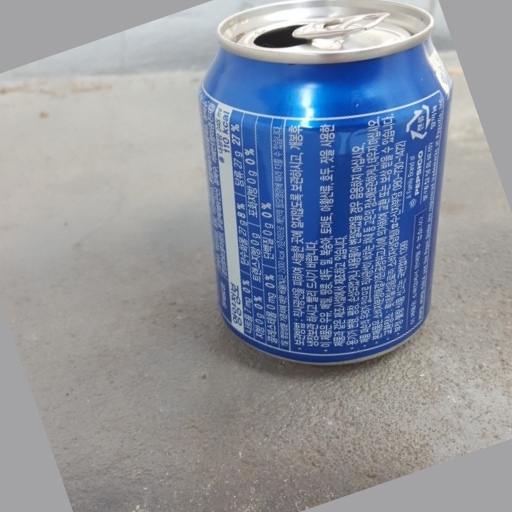Metal_0: (201, 1, 454, 366)
